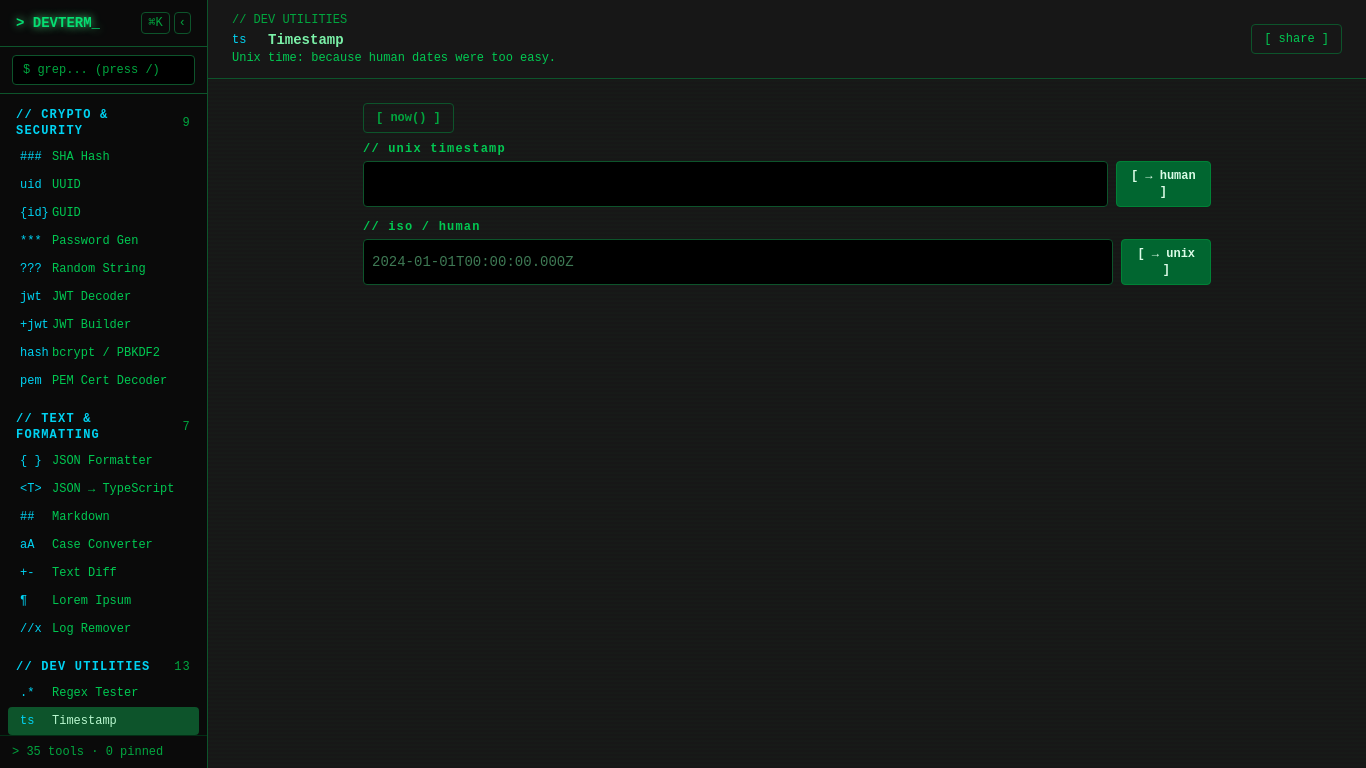
Test: Timestamp Tool › now() button fills unix timestamp
(page scrolled)
Expected: the element that starts with "[ now() ]" is shown, left=363, top=103, right=1211, bottom=285
Click the button "[ now() ]".
click(409, 118)  # box left=363, top=103, right=454, bottom=133
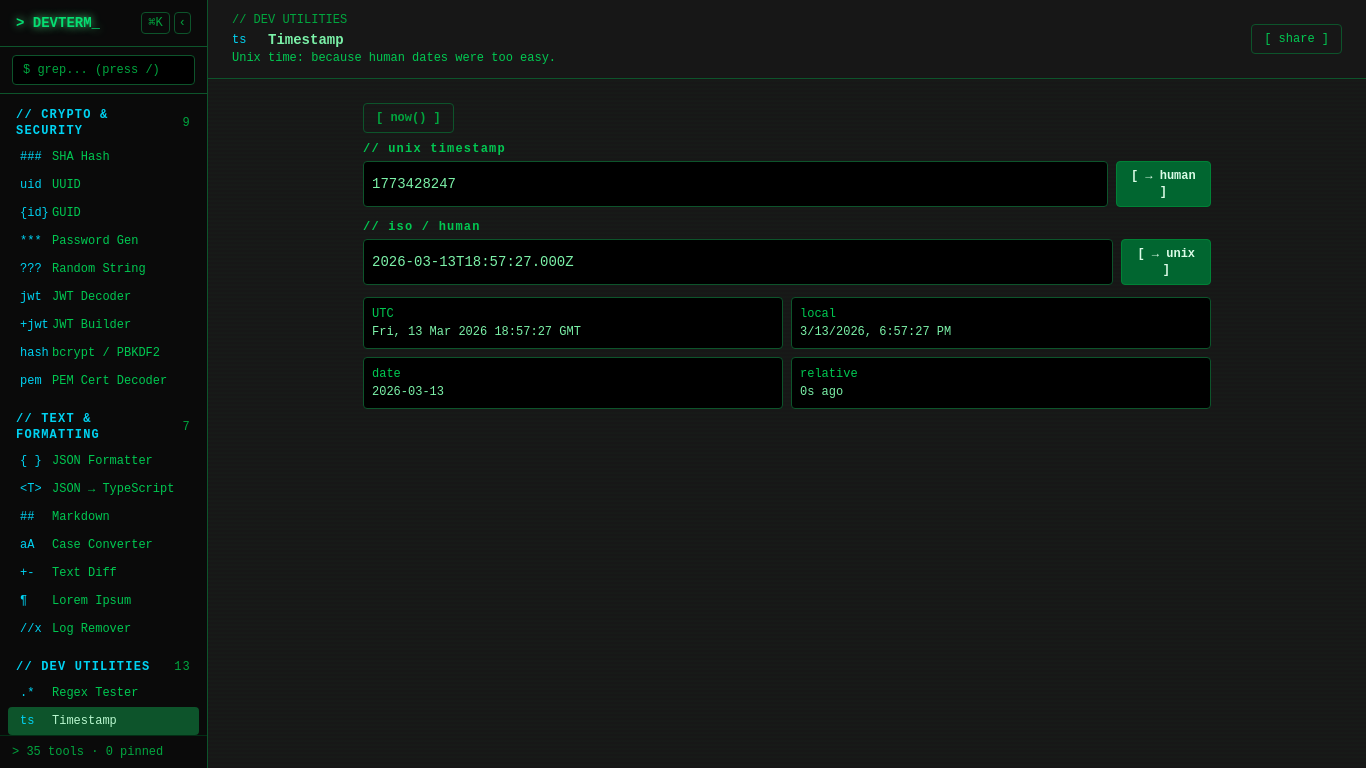
Expected: the 2nd field holds "^\\d{10}$", left=363, top=161, right=1108, bottom=207
